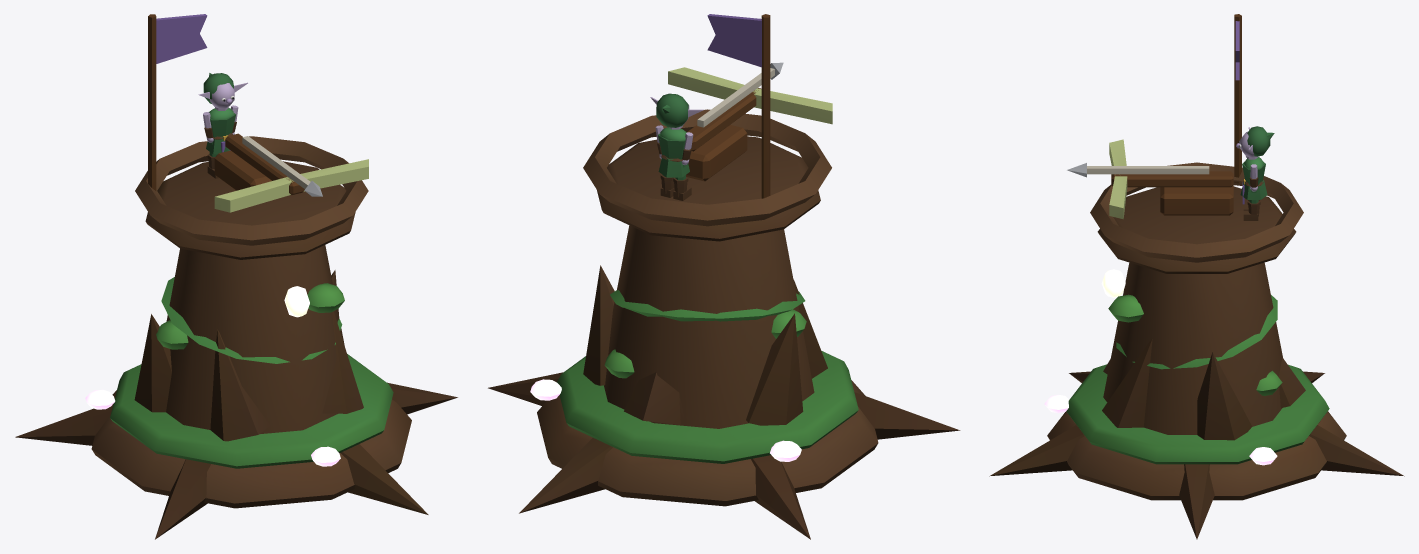
Rendered from sylvestres_6.glb.
The picture shows the model from 3 angles, left to right: view 1: azimuth 30°, elevation 25°; view 2: azimuth 150°, elevation 25°; view 3: azimuth 270°, elevation 25°; orthographic projection. The views are drawn at different scales.
Visible parts, largest first — view 1: sylvestres_6_peint, Tourelle_peint, Crane_peint, sylvestres_6_lueur, Buste_peint, Lanterne; view 2: sylvestres_6_peint, Tourelle_peint, Buste_peint, sylvestres_6_lueur, Crane_peint; view 3: sylvestres_6_peint, Tourelle_peint, Crane_peint, Buste_peint, sylvestres_6_lueur, Lanterne.
Boxes of the visible parts, left/top/right/bottom form: sylvestres_6_peint: left=15, top=14, right=457, bottom=539; Tourelle_peint: left=214, top=133, right=368, bottom=212; Crane_peint: left=198, top=73, right=247, bottom=108; sylvestres_6_lueur: left=85, top=344, right=345, bottom=466; Buste_peint: left=206, top=108, right=235, bottom=154; Lanterne: left=284, top=286, right=309, bottom=317; sylvestres_6_peint: left=488, top=14, right=960, bottom=539; Tourelle_peint: left=668, top=62, right=832, bottom=181; Buste_peint: left=658, top=127, right=689, bottom=177; sylvestres_6_lueur: left=530, top=379, right=801, bottom=461; Crane_peint: left=650, top=93, right=703, bottom=127; sylvestres_6_peint: left=989, top=14, right=1404, bottom=539; Tourelle_peint: left=1067, top=139, right=1233, bottom=219; Crane_peint: left=1236, top=126, right=1274, bottom=157; Buste_peint: left=1240, top=157, right=1267, bottom=204; sylvestres_6_lueur: left=1044, top=394, right=1277, bottom=465; Lanterne: left=1101, top=269, right=1125, bottom=297.
Size of the model in its own units: 0.9693 by 1.08 by 1.02.
